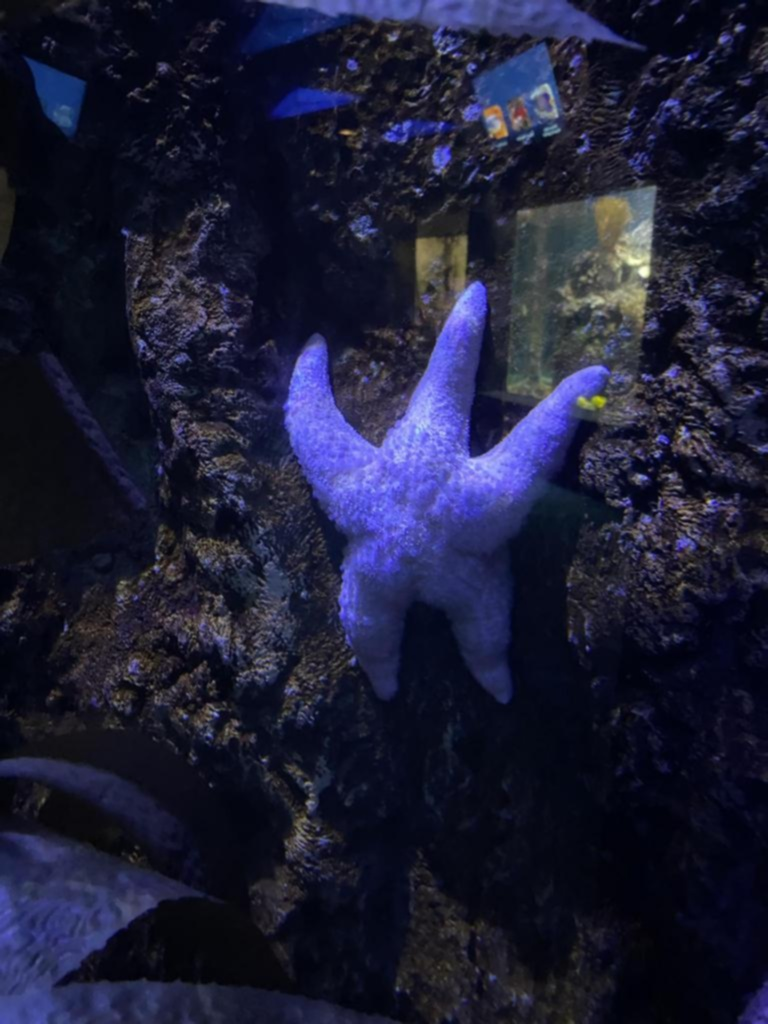starfish: (275, 294, 609, 704)
